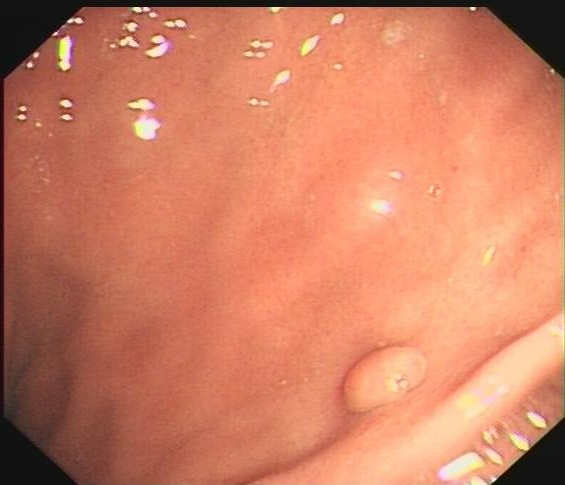Polyp: (340, 344, 431, 416)
